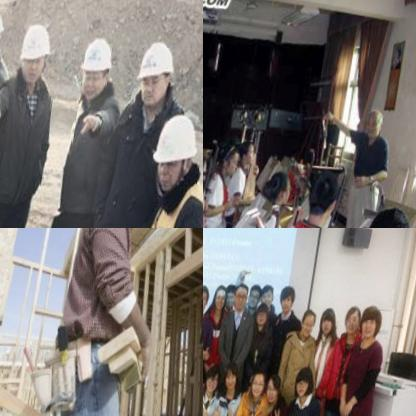head: (298, 171, 341, 228), (357, 200, 414, 228), (258, 169, 292, 214), (358, 308, 384, 349), (215, 143, 240, 182), (236, 137, 256, 175), (361, 110, 384, 143), (292, 367, 314, 400), (203, 364, 223, 397), (342, 308, 362, 340), (232, 280, 250, 315), (276, 286, 296, 317), (261, 378, 281, 408), (298, 312, 316, 343), (318, 309, 336, 340), (221, 363, 240, 392), (245, 285, 262, 313), (252, 304, 270, 330), (258, 284, 274, 313), (249, 373, 266, 399), (212, 284, 226, 311), (223, 285, 237, 311), (203, 149, 209, 183), (203, 282, 209, 315)
helmet: (144, 108, 203, 203), (130, 39, 180, 116), (14, 19, 55, 90), (76, 35, 116, 105)
